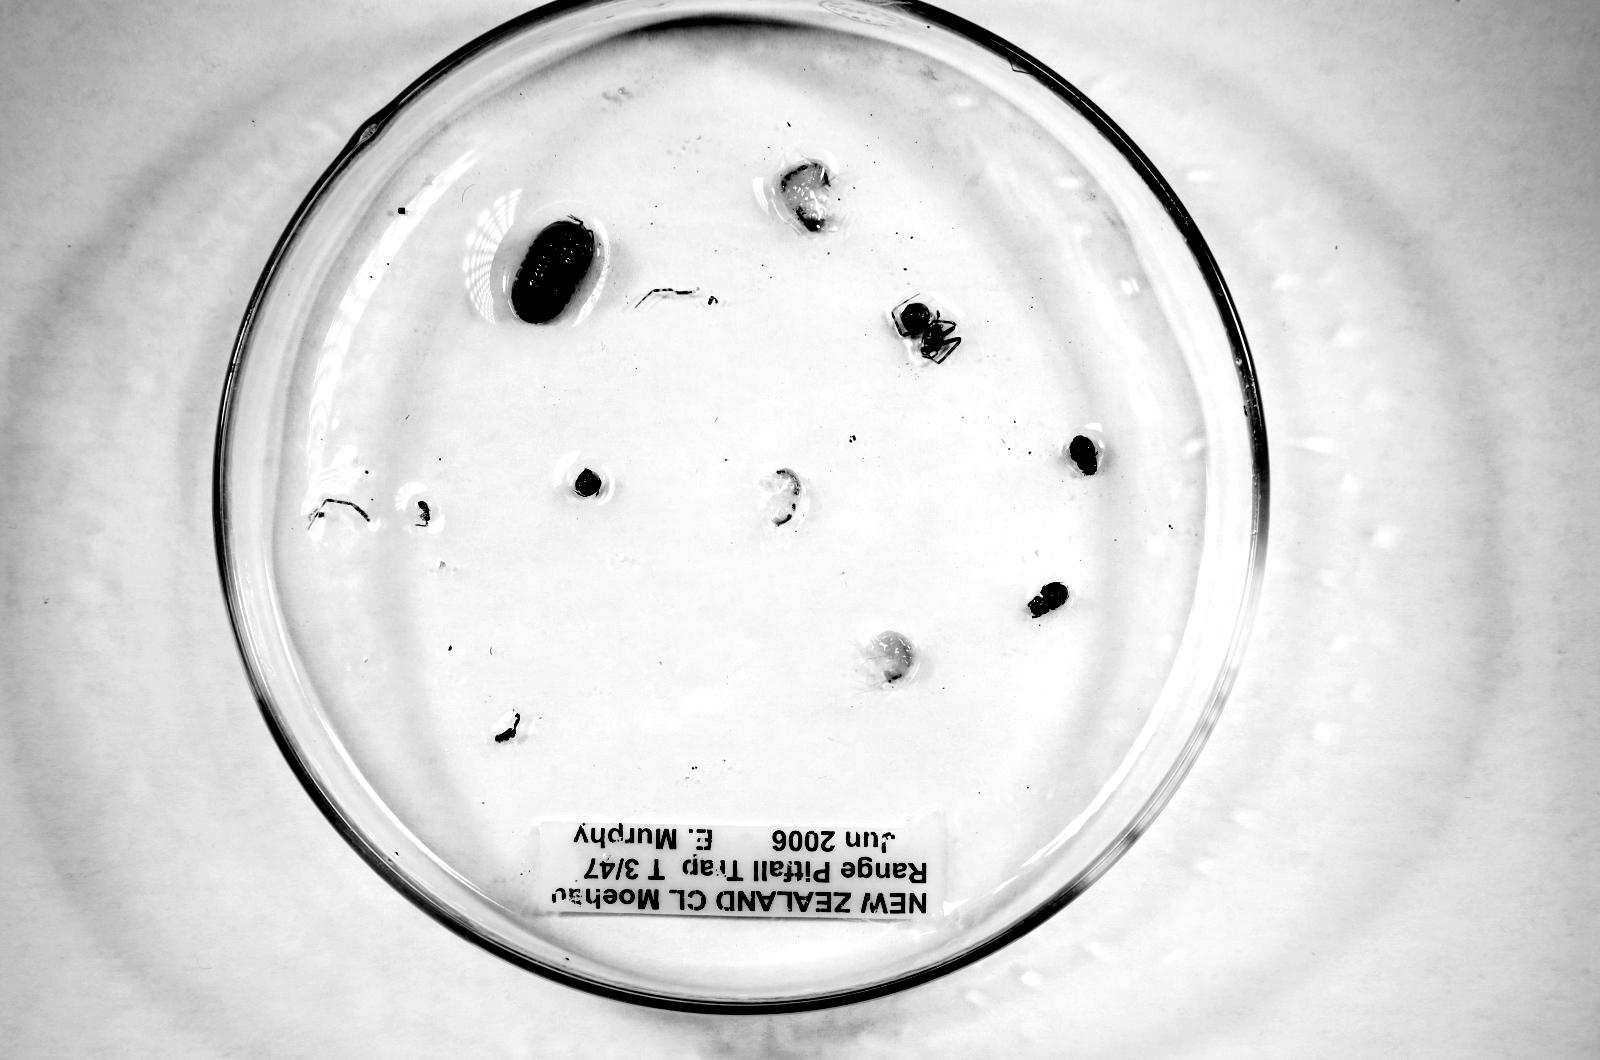amphipoda: (778, 158, 836, 232), (869, 630, 915, 683)
araneae: (892, 301, 961, 363)
coleoptera: (1028, 582, 1068, 618), (1069, 435, 1097, 475)
formicidae: (415, 499, 432, 528)
isopoda: (511, 220, 595, 323)
